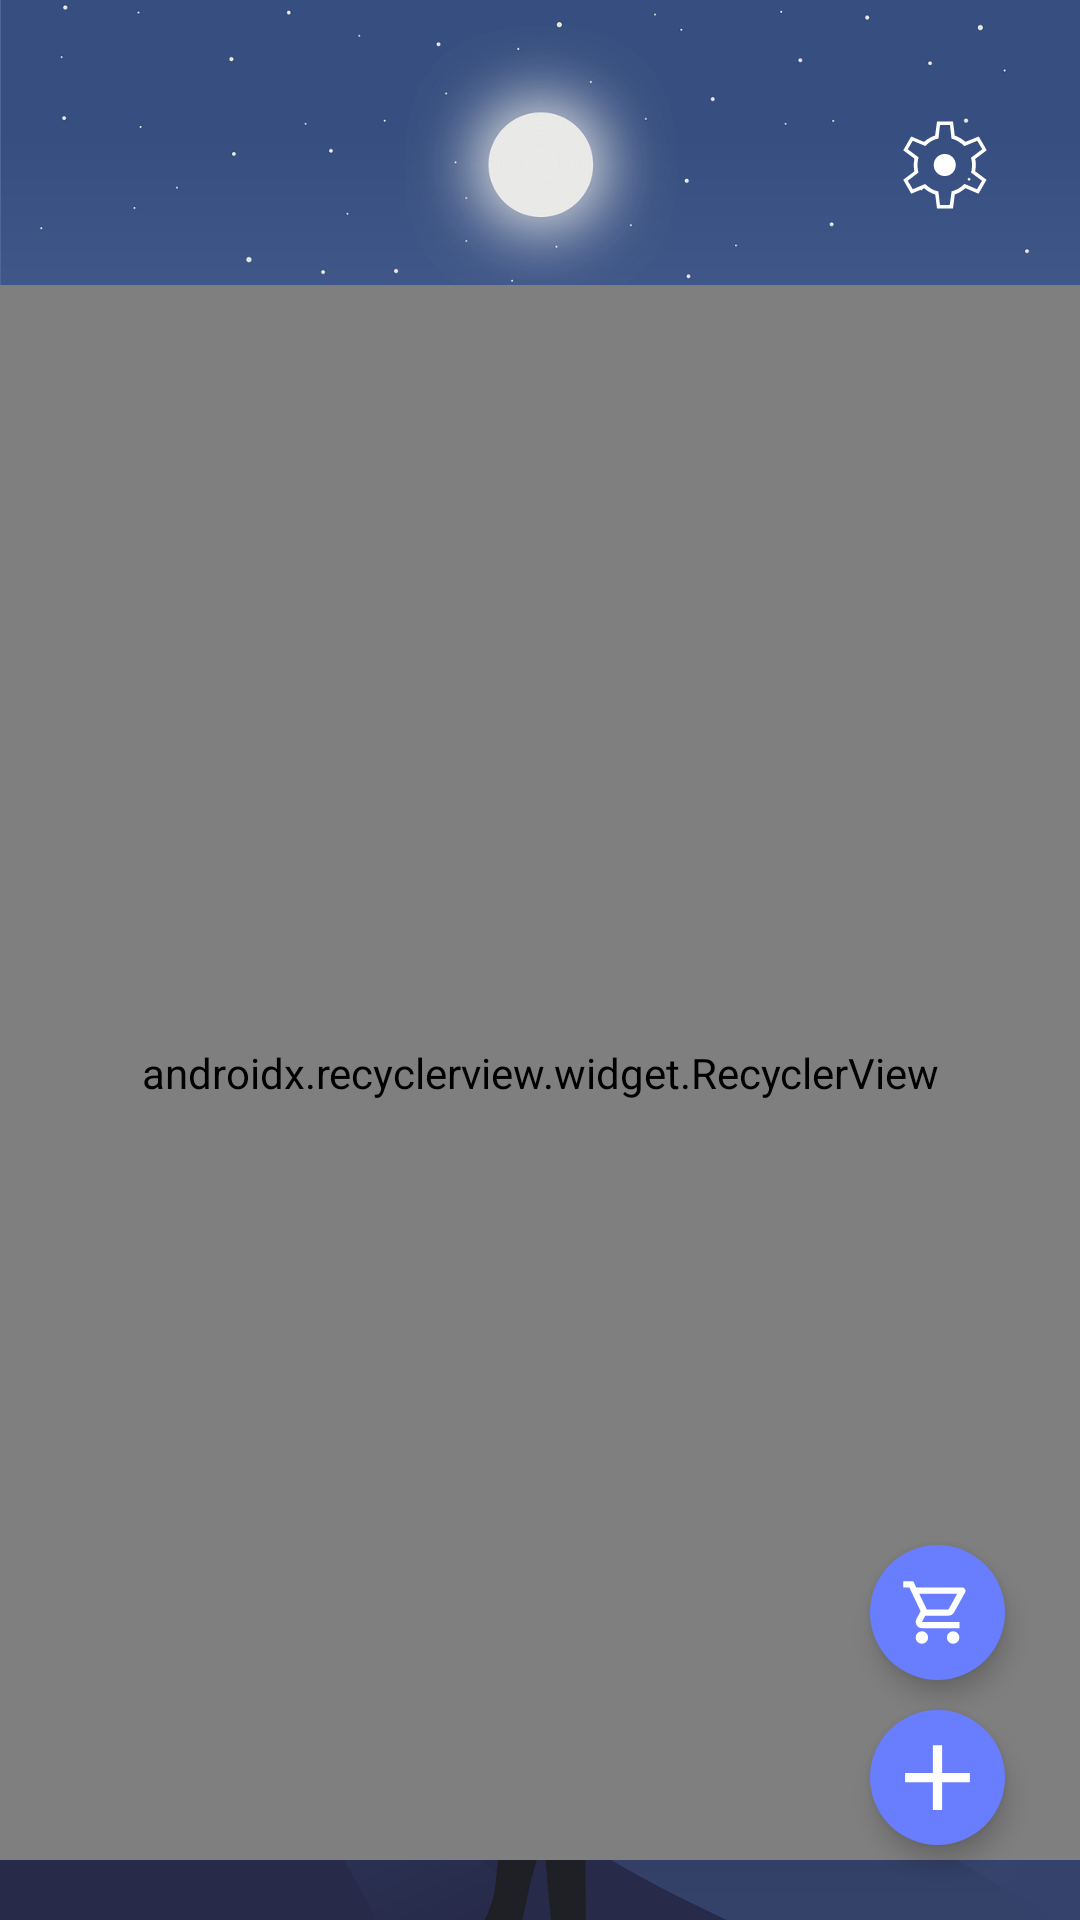

Where icons sit on this 1080px×1920px app screen, as (x1, y1, x2, y2):
add: (870, 1710, 1005, 1845)
settings: (903, 118, 1029, 253)
shopping cart: (870, 1545, 1005, 1680)
